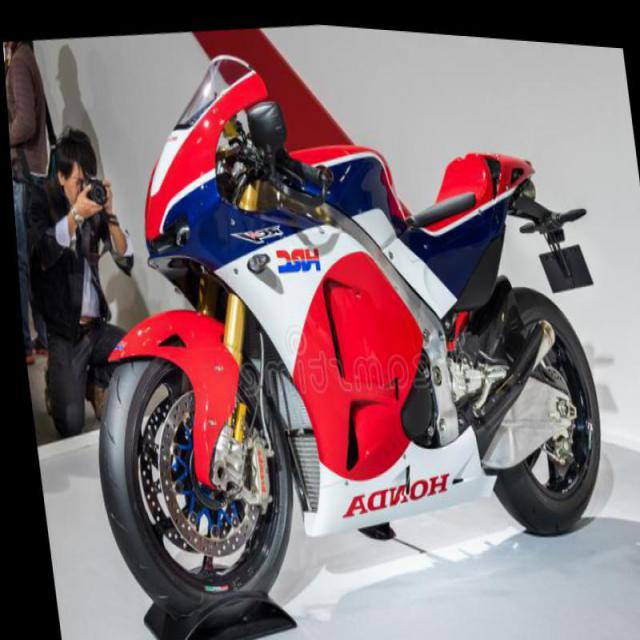HRC RCV 213: (42, 2, 620, 639)
